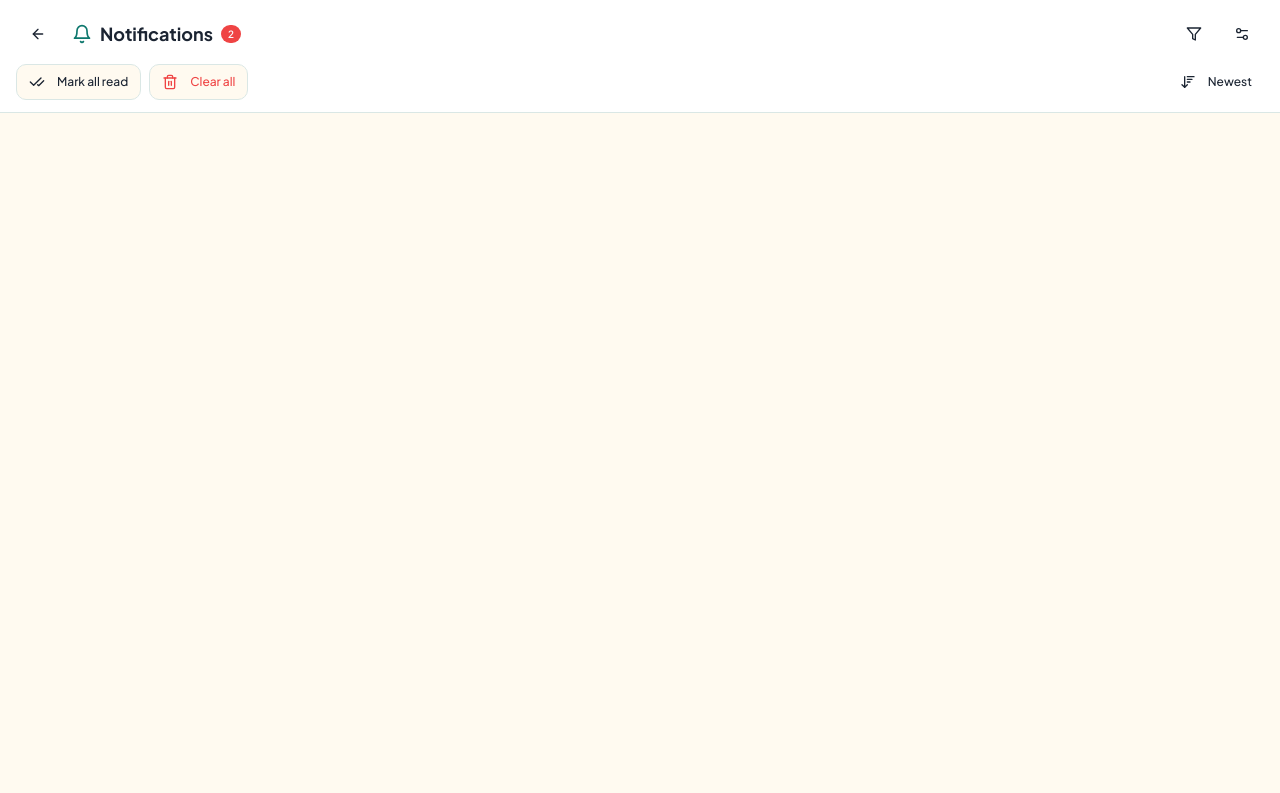
Test case: Notification filters › Notifications page filter by Unread shows only unread
What coordinates should you click on to do the following:
click the button named "Toggle filters"
I would click on:
 (1194, 34)
Its box is x1=1172 y1=12 x2=1216 y2=56.
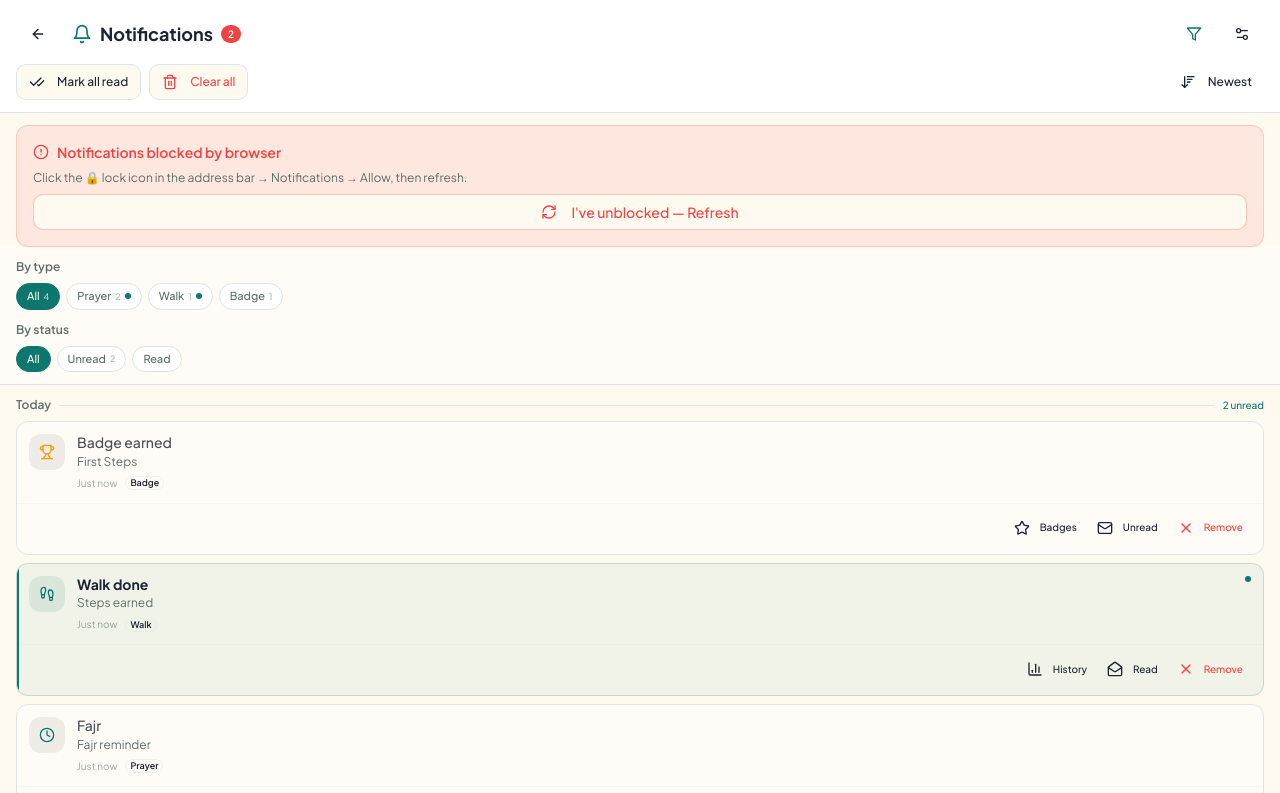
What coordinates should you click on to do the following:
click the button with test id "filter-status-unread"
I would click on:
 (92, 359)
Its box is x1=57 y1=346 x2=126 y2=372.
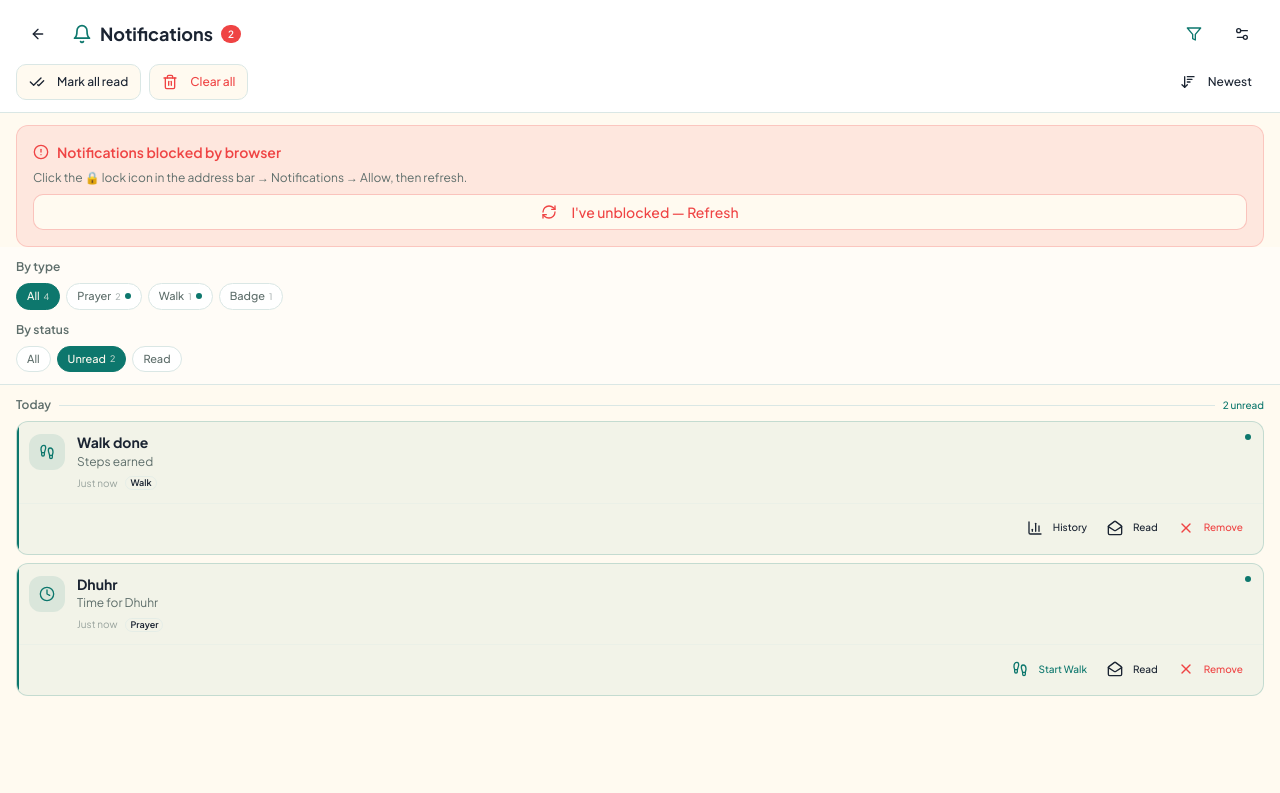
Now the text "Dhuhr" is shown, box x1=77 y1=576 x2=118 y2=593
Now the text "Fajr" is gone
Now the text "Badge earned" is gone
